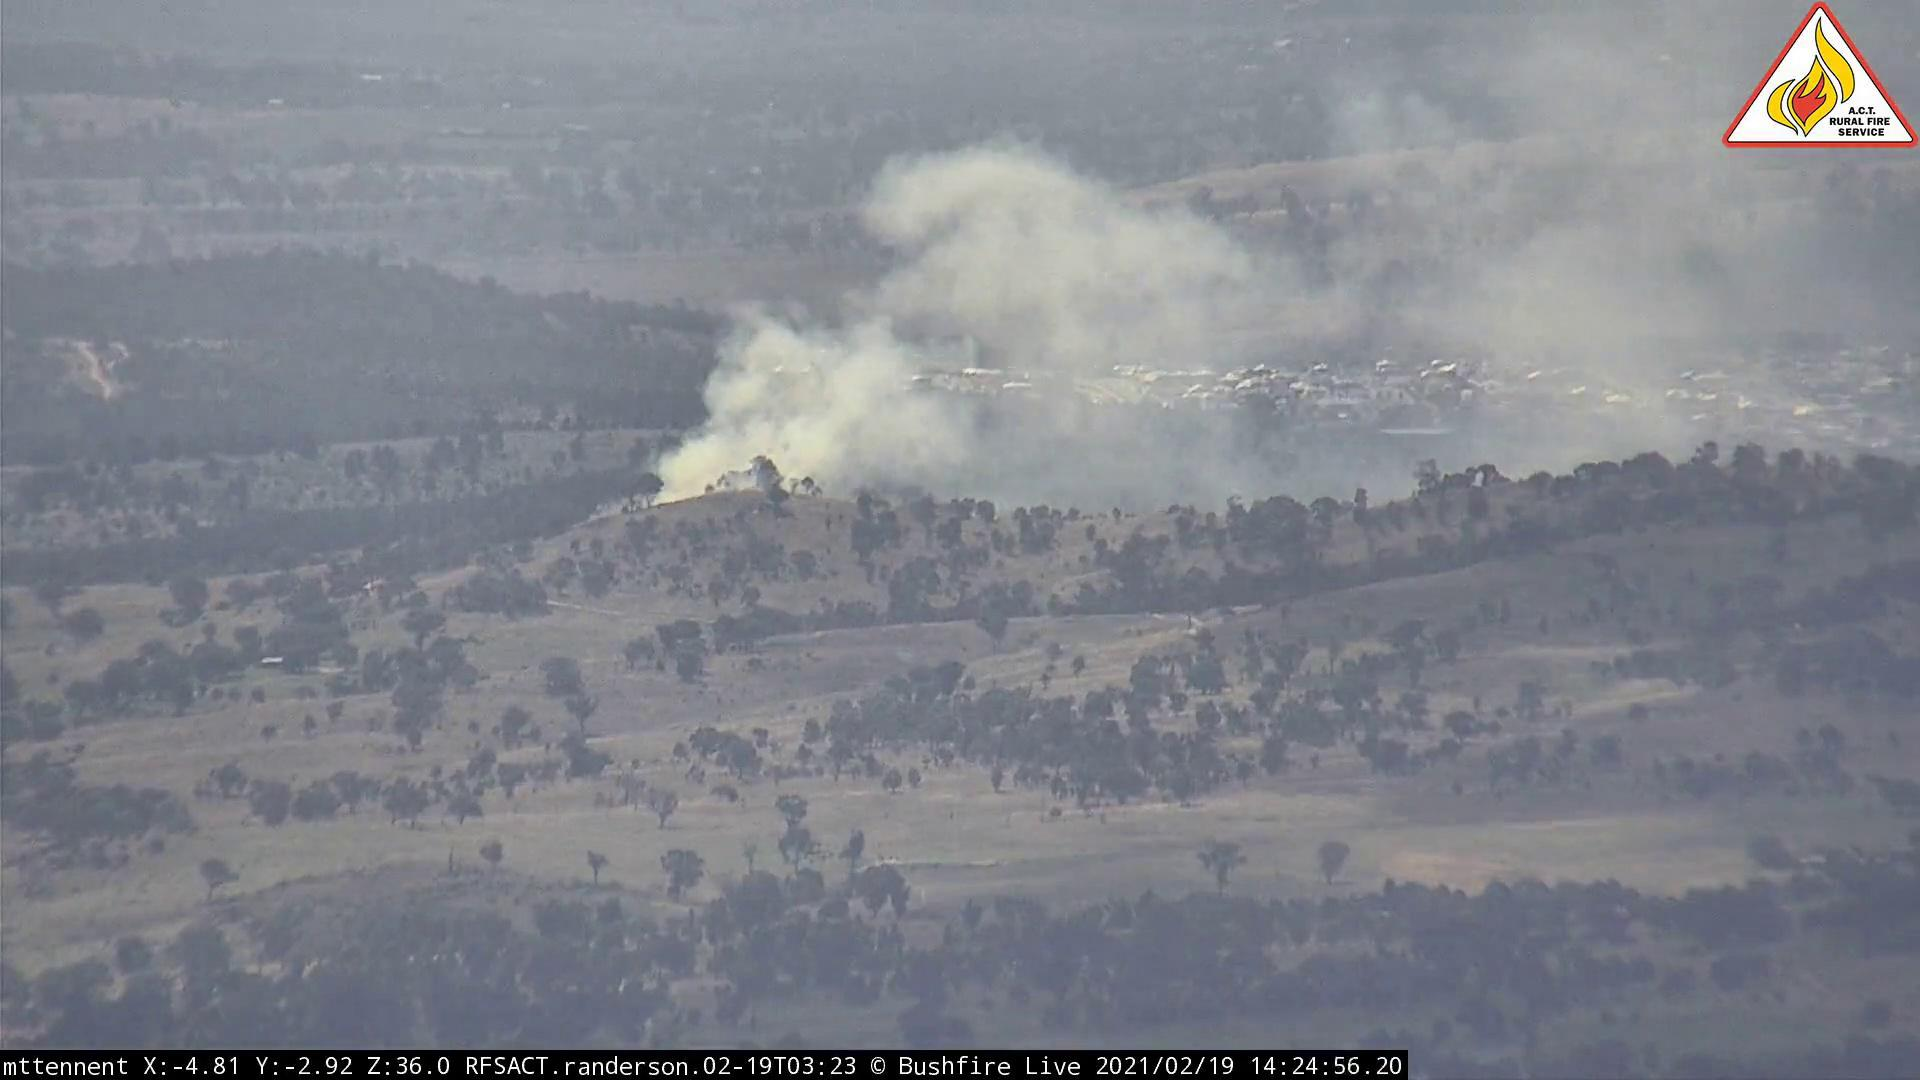instance_salient_object: (632, 112, 1594, 527)
